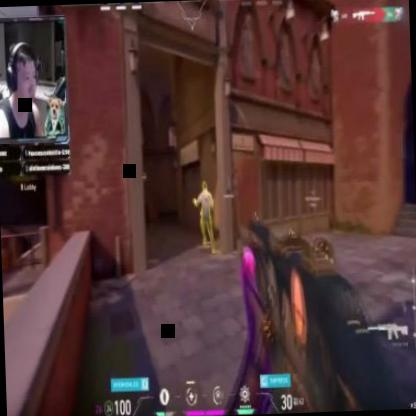enemy: (191, 181, 216, 255)
enemy_head: (202, 181, 208, 192)
